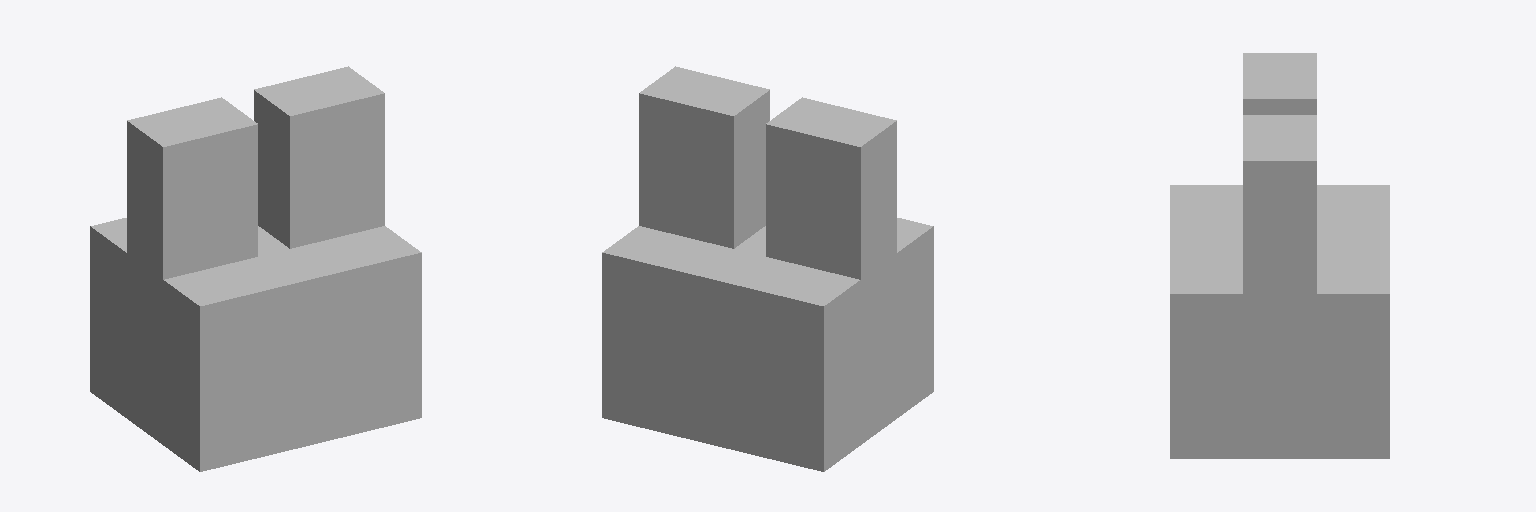
File: rabbit.obj
The picture shows the model from 3 angles: view 1: azimuth 30°, elevation 25°; view 2: azimuth 150°, elevation 25°; view 3: azimuth 270°, elevation 25°; orthographic projection.
Parts seen in each view (by area): view 1: object 1; view 2: object 1; view 3: object 1.
Boxes of the visible parts, x1=… form: object 1: x1=90, y1=66, x2=421, y2=471; object 1: x1=602, y1=66, x2=933, y2=471; object 1: x1=1170, y1=53, x2=1389, y2=458.
Size of the model in its own units: 0.7 by 0.9 by 0.6.